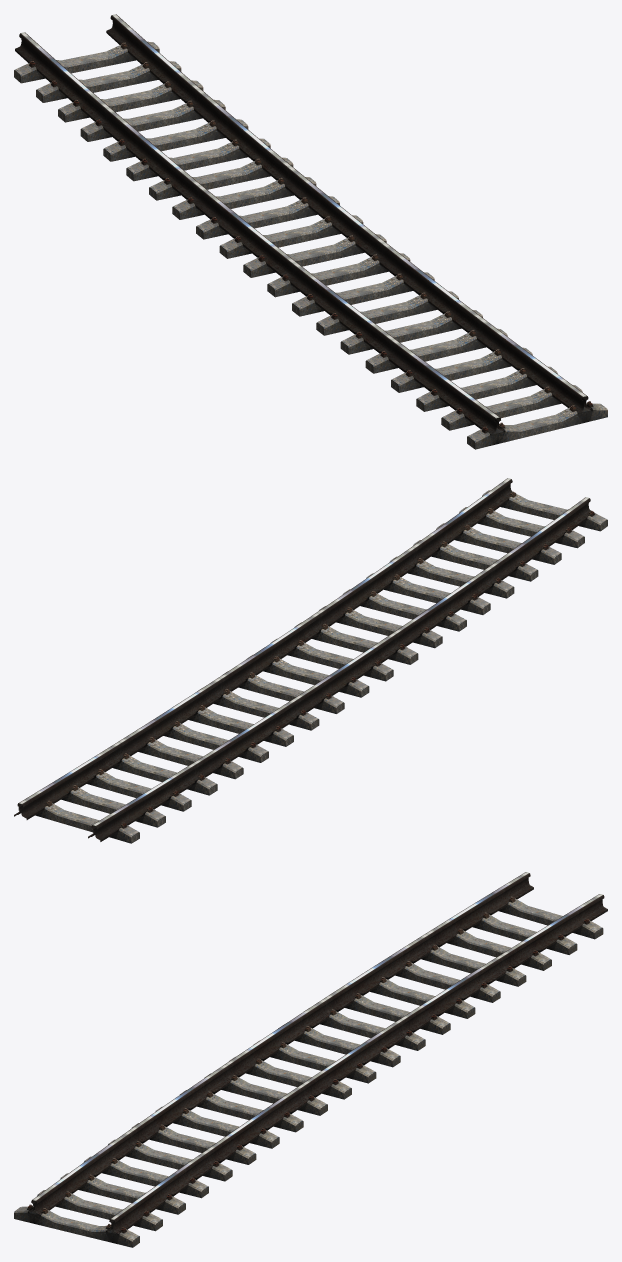
The model's file is Beton_rail_-5.FBX.
3 renders of one model, top to bottom at view 1: azimuth 30°, elevation 25°; view 2: azimuth 150°, elevation 25°; view 3: azimuth 330°, elevation 25°, orthographic. The views are drawn at different scales.
Visible parts, largest first — view 1: Beton_rail_-5_LOD0; view 2: Beton_rail_-5_LOD0; view 3: Beton_rail_-5_LOD0.
Part boxes in pixels (box(x1,y1,x2,y2)): Beton_rail_-5_LOD0: box(14, 14, 607, 449); Beton_rail_-5_LOD0: box(14, 478, 607, 843); Beton_rail_-5_LOD0: box(14, 872, 607, 1247).
Size of what is drawn, in the model's own units: 3.19 by 16.9 by 0.4774.
